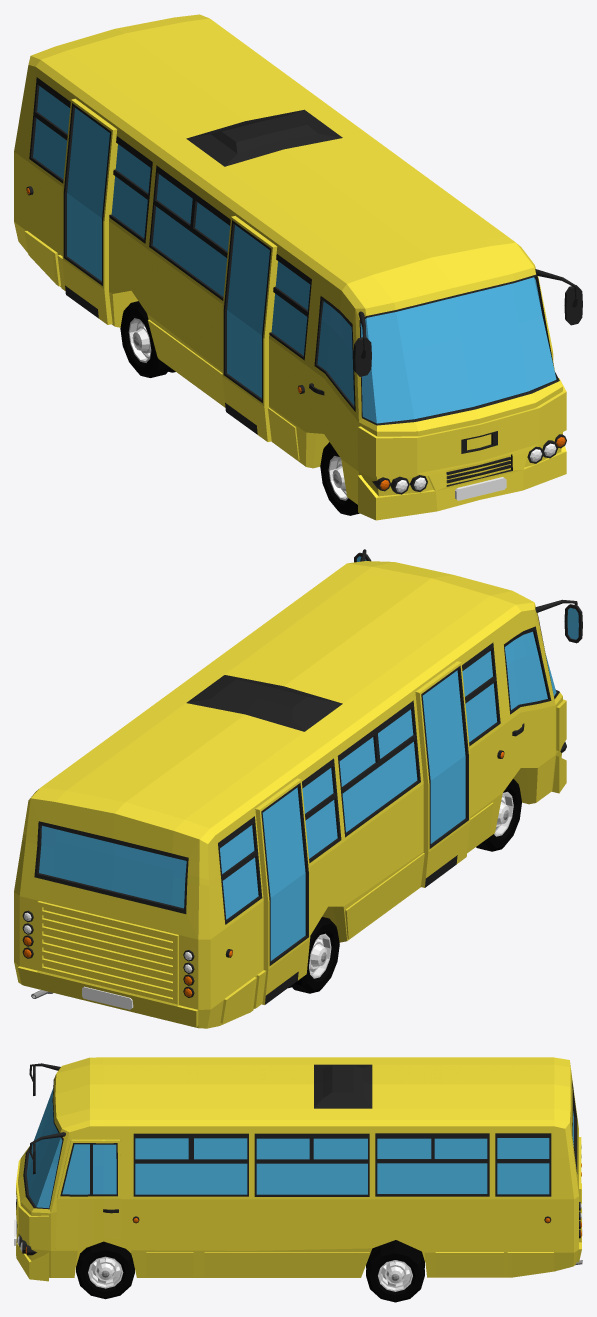
Rendered from bus_1_yellow.fbx.
The picture shows the model from 3 angles, top to bottom: view 1: azimuth 30°, elevation 25°; view 2: azimuth 150°, elevation 25°; view 3: azimuth 270°, elevation 25°; orthographic projection. The views are drawn at different scales.
Visible parts, largest first — view 1: bohdan_092, Rear_Right_Wheel.008, Front_Right_Wheel; view 2: bohdan_092, Rear_Right_Wheel.008, Front_Right_Wheel; view 3: bohdan_092, Rear_Left_Wheel.008, Front_Left_Wheel.
Part boxes in pixels (x1=…): bohdan_092: x1=14, y1=14, x2=582, y2=520; Rear_Right_Wheel.008: x1=120, y1=301, x2=175, y2=377; Front_Right_Wheel: x1=320, y1=442, x2=359, y2=515; bohdan_092: x1=14, y1=549, x2=582, y2=1028; Rear_Right_Wheel.008: x1=288, y1=917, x2=339, y2=993; Front_Right_Wheel: x1=476, y1=778, x2=521, y2=851; bohdan_092: x1=14, y1=1057, x2=582, y2=1281; Rear_Left_Wheel.008: x1=366, y1=1240, x2=424, y2=1302; Front_Left_Wheel: x1=76, y1=1241, x2=134, y2=1299.
Bounding box in the file's own units: 260 × 275 × 743.
